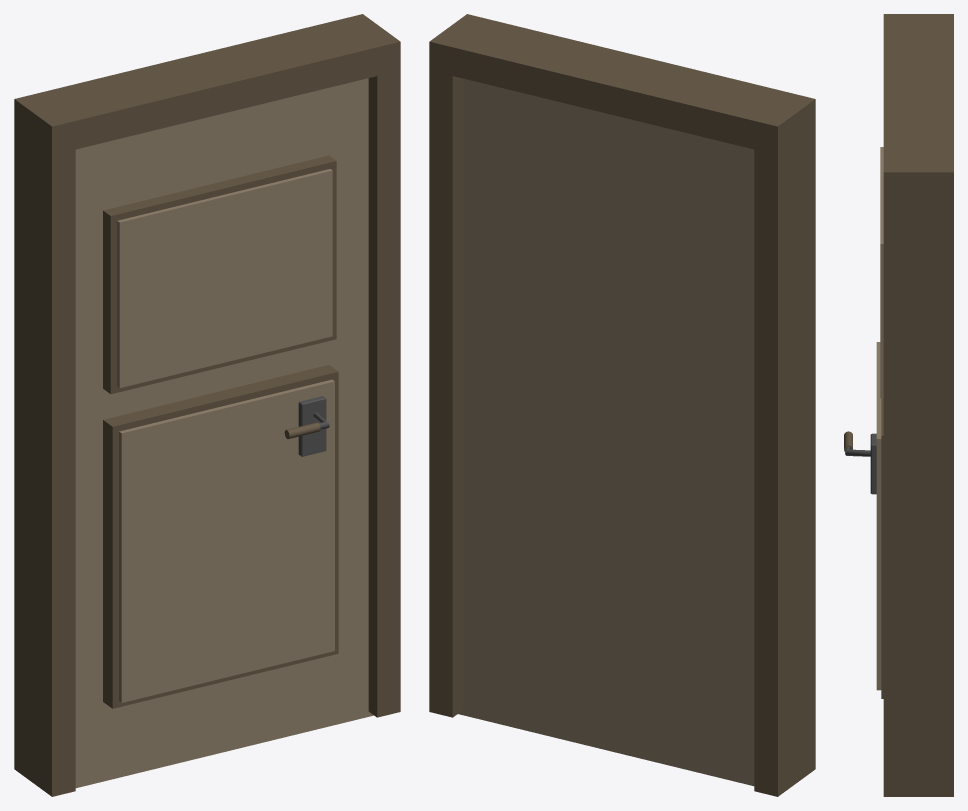
The model's file is colored door.fbx.
3 renders of one model, left to right at view 1: azimuth 30°, elevation 25°; view 2: azimuth 150°, elevation 25°; view 3: azimuth 270°, elevation 25°, orthographic. The views are drawn at different scales.
Visible parts, largest first — view 1: polySurface5, polySurface4, polySurface2; view 2: polySurface5, polySurface4; view 3: polySurface4, polySurface5, polySurface2.
Part boxes in pixels (left/top/right/bottom): polySurface5: left=75, top=78, right=373, bottom=788; polySurface4: left=14, top=14, right=400, bottom=796; polySurface2: left=298, top=396, right=326, bottom=456; polySurface5: left=458, top=78, right=754, bottom=786; polySurface4: left=429, top=14, right=815, bottom=796; polySurface4: left=883, top=14, right=953, bottom=796; polySurface5: left=876, top=147, right=883, bottom=698; polySurface2: left=870, top=433, right=876, bottom=494.
Size of the model in its own units: 1.17 by 2.17 by 0.3435.
